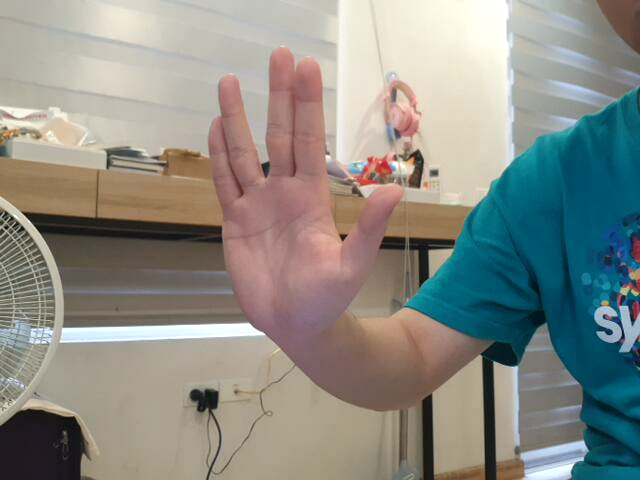LiveLong: (204, 42, 403, 353)
